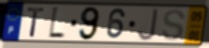6: (106, 7, 126, 41)
9: (78, 6, 102, 42)
J: (137, 8, 160, 42)
L: (47, 5, 66, 41)
S: (160, 9, 187, 43)
T: (26, 7, 47, 38)
